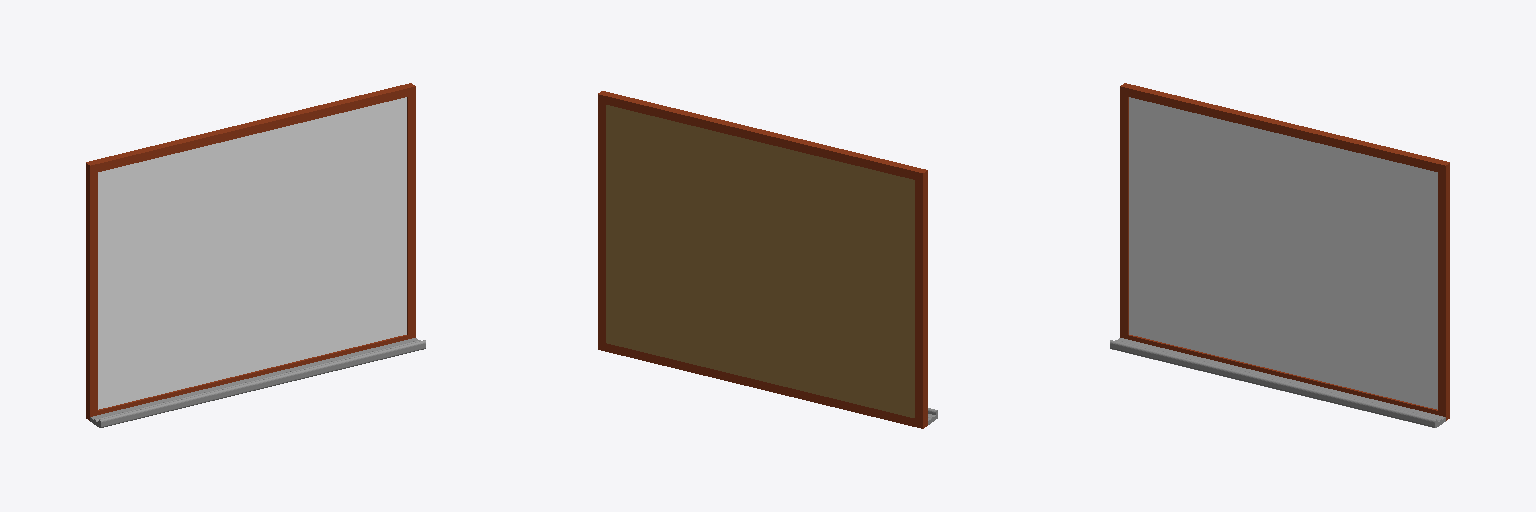
The model's file is WhiteBoard.obj.
The picture shows the model from 3 angles: view 1: azimuth 30°, elevation 25°; view 2: azimuth 150°, elevation 25°; view 3: azimuth 330°, elevation 25°; orthographic projection.
Visible parts, largest first — view 1: Part2, Union1, Part4, Part3, Part6, Part5; view 2: Part1, Part4, Part3, Part5, Part6; view 3: Part2, Union1, Part4, Part6, Part3, Part5.
Boxes of the visible parts, box(x1,y1,x2,y2) form: Part2: box(98, 97, 406, 409); Union1: box(90, 338, 425, 427); Part4: box(86, 83, 415, 173); Part3: box(86, 172, 97, 412); Part6: box(407, 95, 415, 334); Part5: box(86, 333, 415, 420); Part1: box(606, 105, 914, 417); Part4: box(598, 91, 927, 181); Part3: box(915, 179, 927, 419); Part5: box(598, 341, 927, 428); Part6: box(598, 103, 605, 342); Part2: box(1129, 97, 1437, 409); Union1: box(1110, 338, 1445, 427); Part4: box(1120, 83, 1449, 173); Part6: box(1438, 172, 1449, 412); Part3: box(1120, 95, 1128, 334); Part5: box(1120, 333, 1449, 420).
Bounding box in the file's own units: 8 × 6 × 0.65.